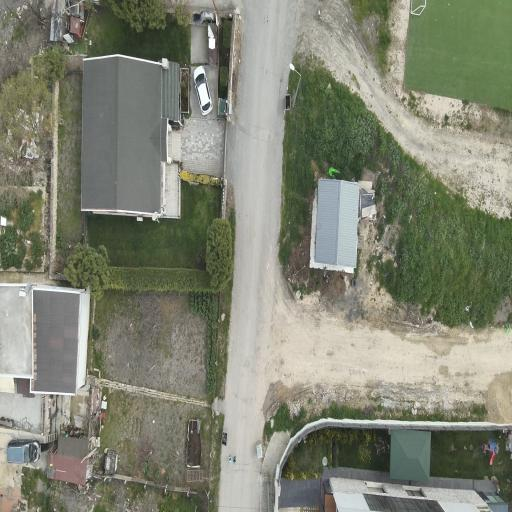car: (193, 66, 211, 115), (6, 439, 39, 463)
person: (233, 456, 235, 463), (228, 455, 230, 462)
